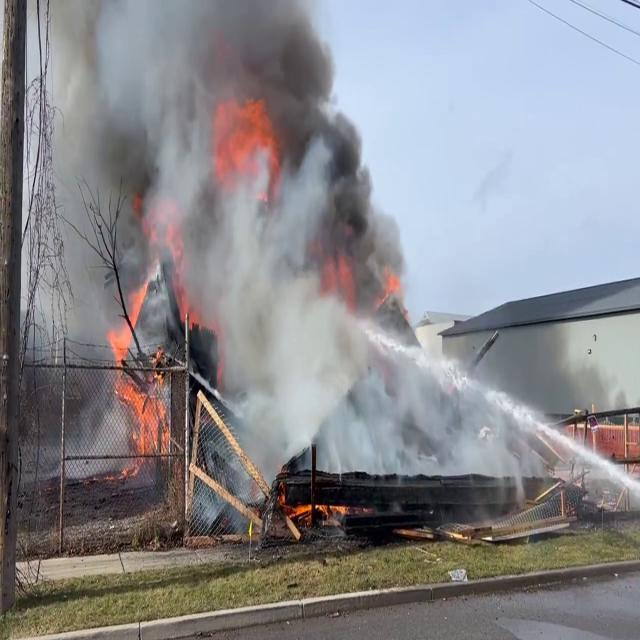Fire: (106, 279, 170, 472), (205, 76, 278, 201)
Smoke: (34, 0, 398, 426)
